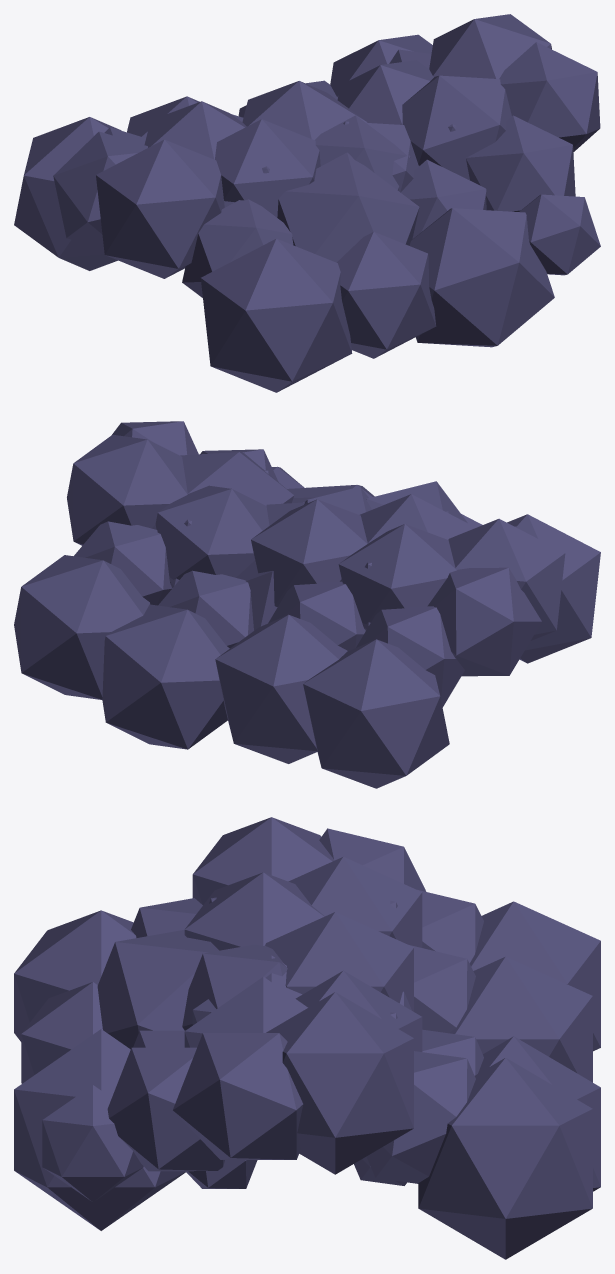
The model's file is cave_top.fbx.
3 views of the same model, one above another, from view 1: azimuth 30°, elevation 25°; view 2: azimuth 150°, elevation 25°; view 3: azimuth 270°, elevation 25° (orthographic). The views are drawn at different scales.
Parts seen in each view (by area): view 1: Icosphere.035; view 2: Icosphere.035; view 3: Icosphere.035.
Boxes of the visible parts, left/top/right/bottom form: Icosphere.035: left=14, top=14, right=600, bottom=392; Icosphere.035: left=14, top=421, right=600, bottom=788; Icosphere.035: left=14, top=817, right=600, bottom=1259.
Bounding box in the file's own units: 655 × 313 × 573.
